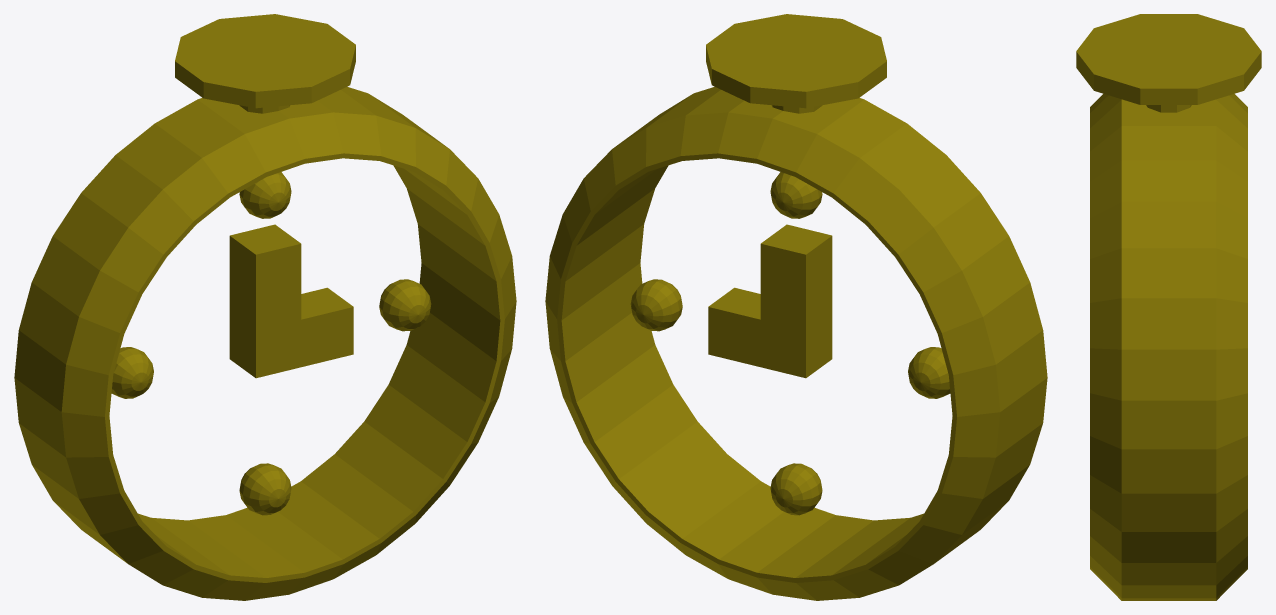
Rendered from ShapeDrop_FinalAssets-TimePowerUp-Final-Optimized.fbx.
3 renders of one model, left to right at view 1: azimuth 30°, elevation 25°; view 2: azimuth 150°, elevation 25°; view 3: azimuth 270°, elevation 25°, orthographic.
Visible parts, largest first — view 1: Timer; view 2: Timer; view 3: Timer.
Boxes of the visible parts, bbox=[...] form: Timer: bbox=[14, 14, 516, 600]; Timer: bbox=[545, 14, 1047, 600]; Timer: bbox=[1076, 14, 1261, 600].
Size of the model in its own units: 100 by 110 by 35.28.
